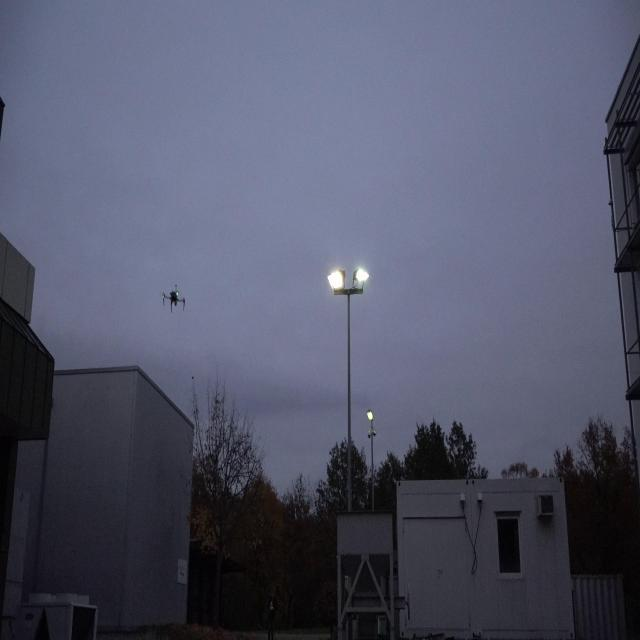drone: (158, 278, 190, 322)
